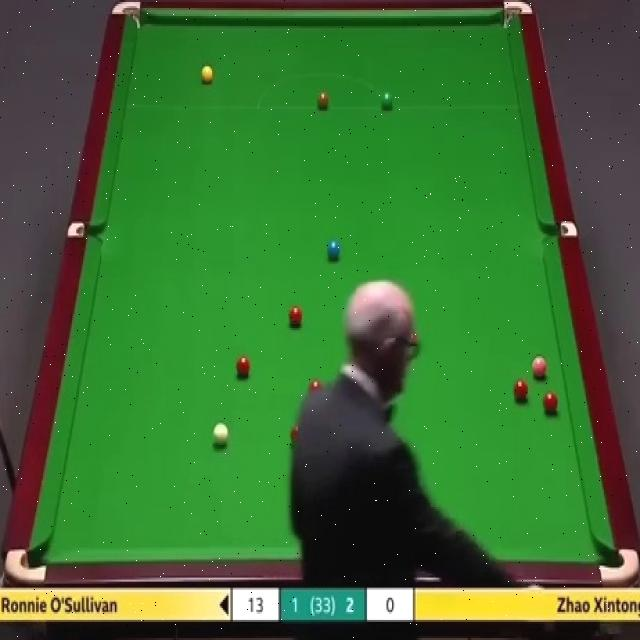blue-ball: (326, 238, 342, 260)
brown-ball: (316, 90, 329, 111)
green-ball: (381, 92, 393, 110)
pink-ball: (532, 354, 547, 380)
red-ball: (235, 354, 252, 381), (541, 392, 558, 417), (514, 378, 531, 402), (289, 423, 305, 448), (288, 306, 303, 328), (307, 380, 324, 396)
white-ball: (212, 423, 229, 448)
yellow-ball: (201, 66, 215, 86)
